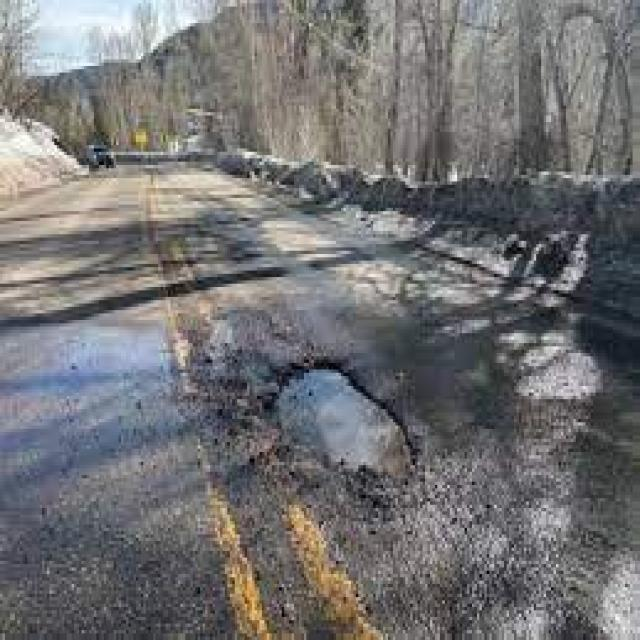Pothole: (227, 323, 430, 521)
